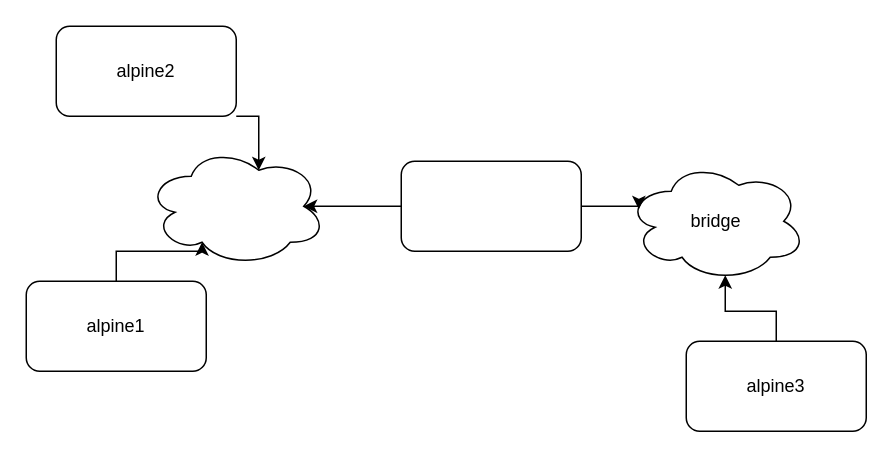
Some shapes in this 893 by 458 pixel diagram are drawn without their labels. The shapes that lost their labels are listed below. From the top down, each one's box as (x1, y1, x2, y2) in pixels, then its label:
(145, 145, 326, 266): alpine-net
(400, 160, 581, 251): alpine4
